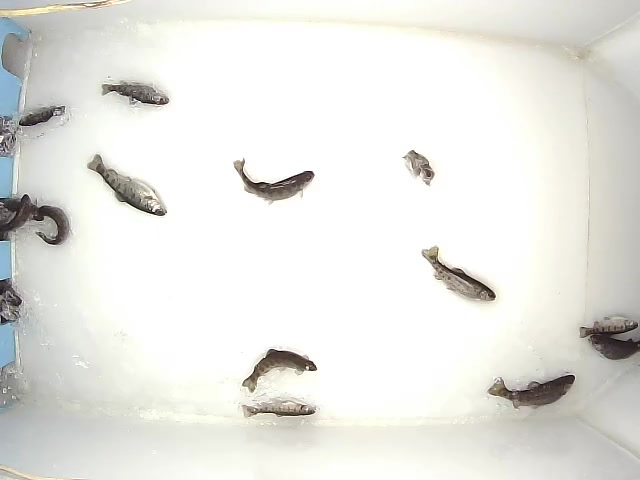fish: (88, 155, 168, 217), (420, 243, 497, 303), (228, 156, 316, 204), (239, 345, 318, 394), (486, 369, 575, 410), (99, 77, 171, 107), (241, 396, 322, 421), (581, 334, 640, 367), (34, 203, 70, 247), (578, 312, 637, 336), (401, 148, 435, 184)
